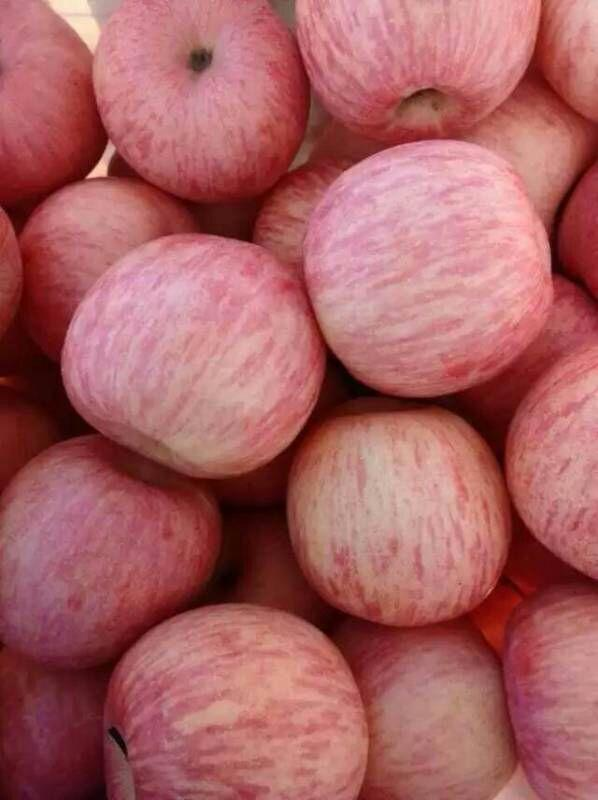apple: (295, 139, 557, 404), (54, 230, 328, 478), (92, 583, 374, 794), (284, 404, 518, 629), (5, 430, 229, 663), (94, 7, 305, 209), (10, 171, 207, 366), (297, 2, 543, 146), (359, 620, 511, 798)
